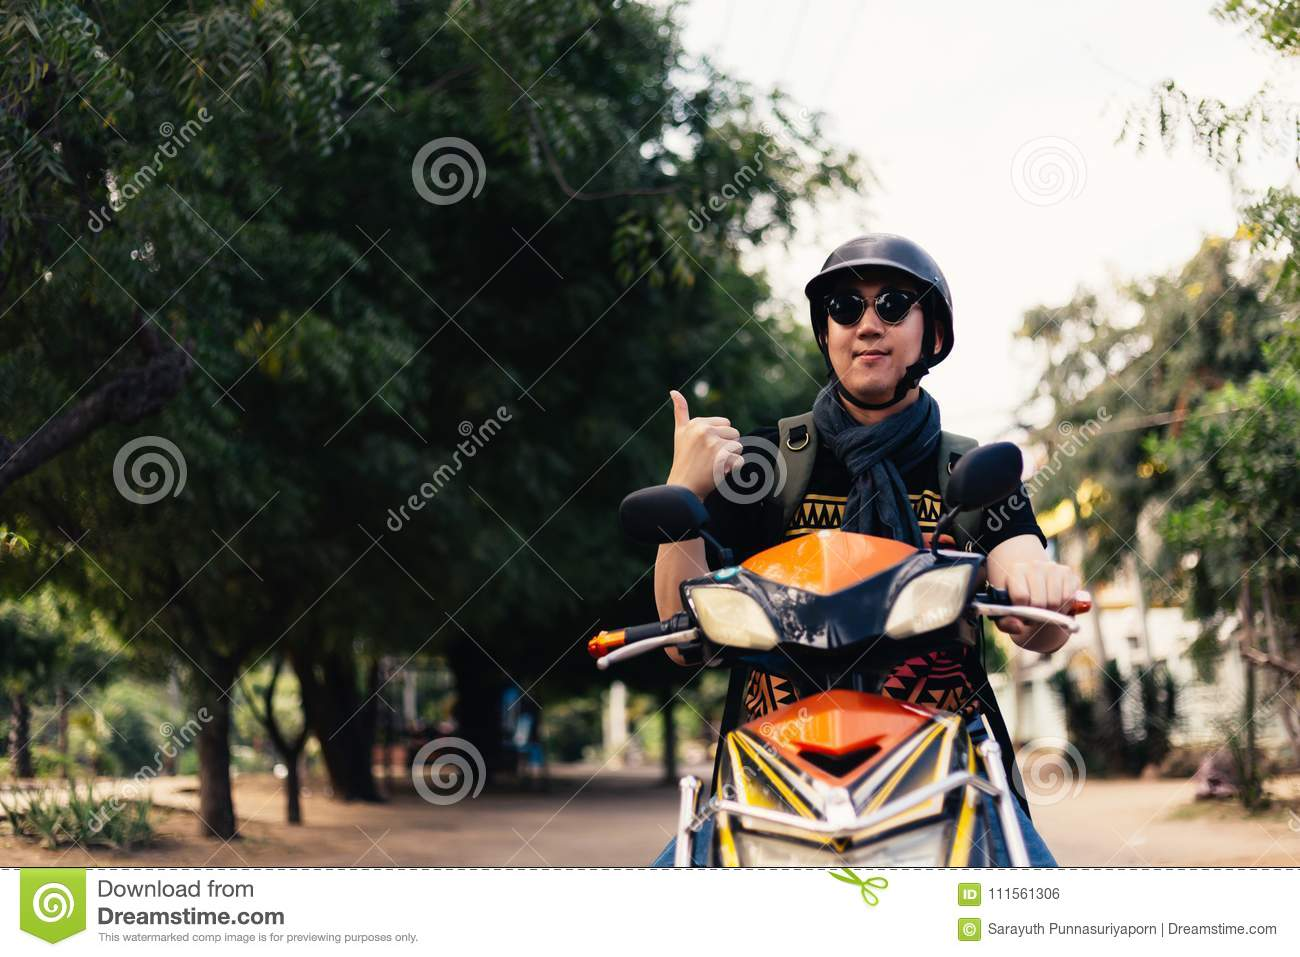helmet: (813, 229, 961, 335)
